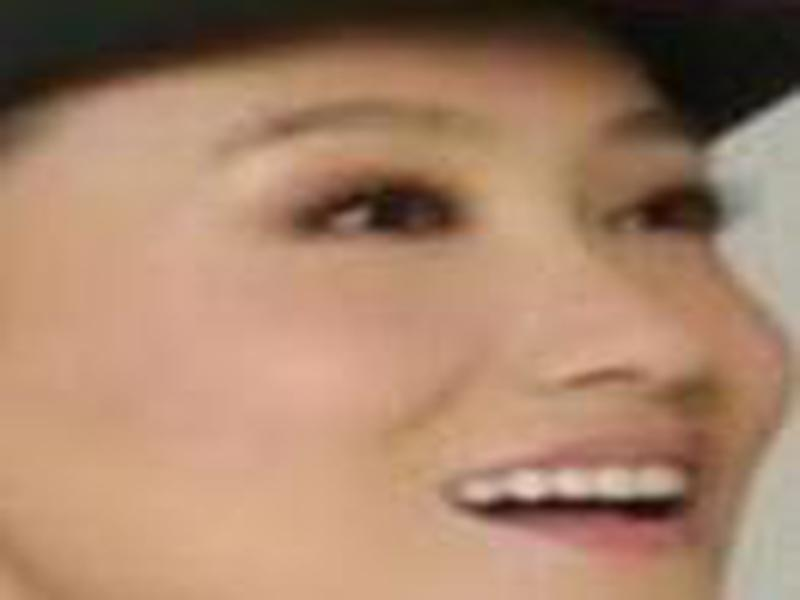without_mask: (6, 40, 800, 600)
